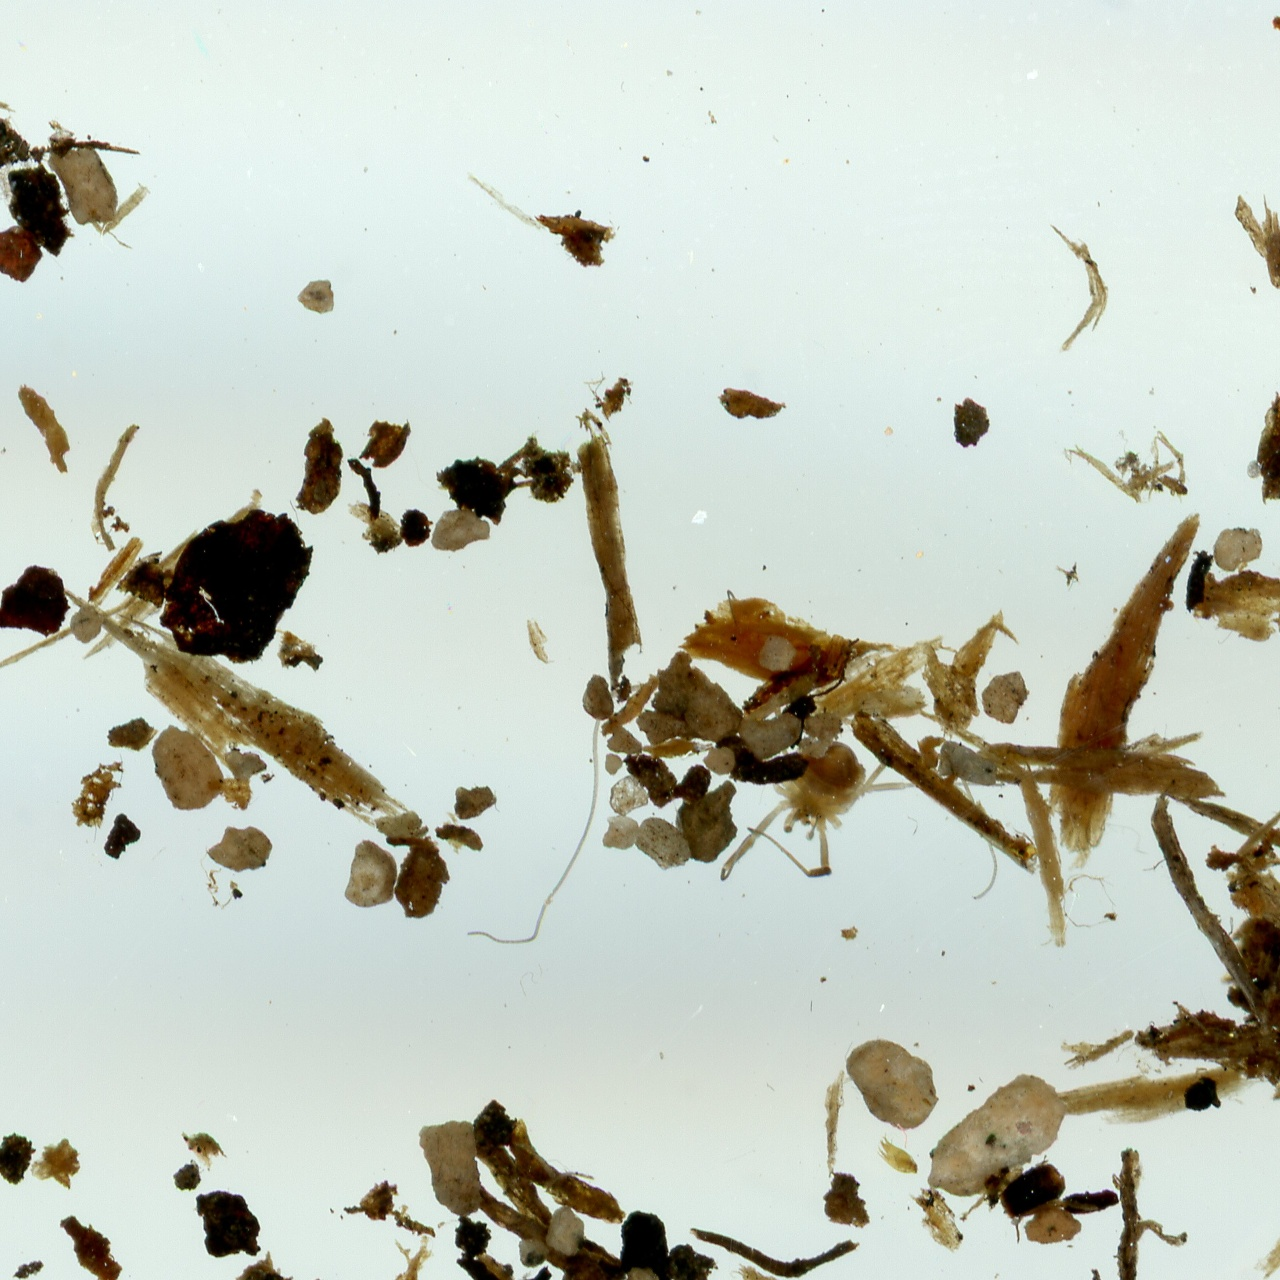arthropod: (463, 680, 1002, 947)
